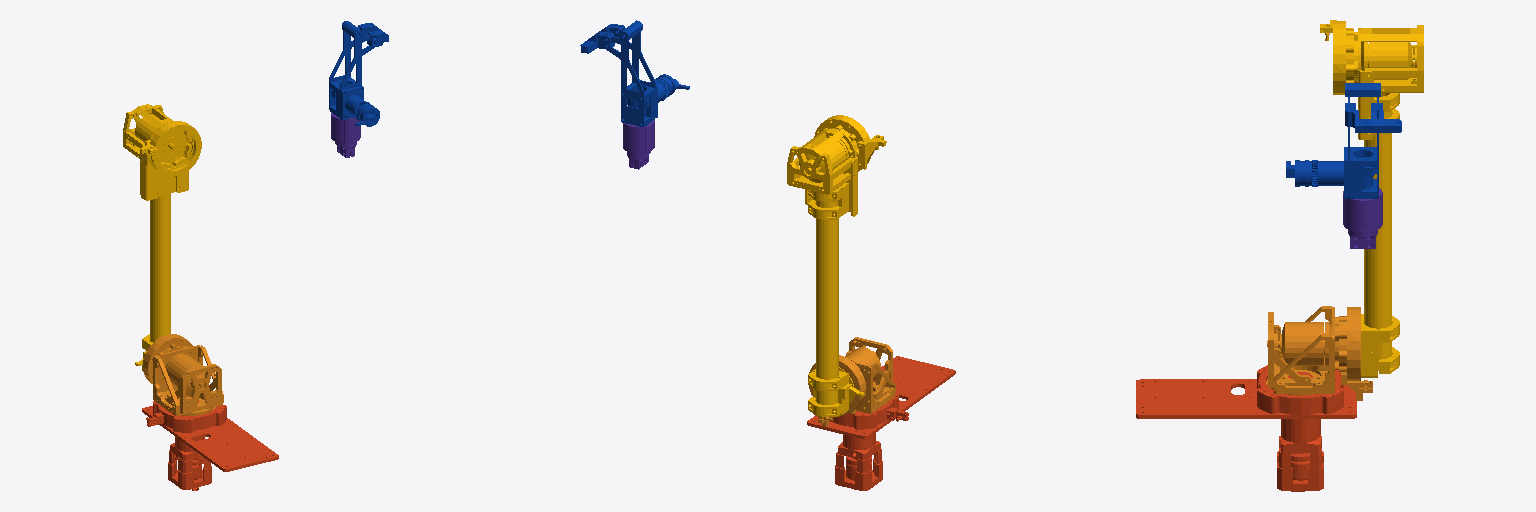
robot.urdf — kanga_arm:
<?xml version="1.0" ?>
<!-- =================================================================================== -->
<!-- |    This document was autogenerated by xacro from /tmp/kanga_arm_only.urdf.xacro | -->
<!-- |    EDITING THIS FILE BY HAND IS NOT RECOMMENDED                                 | -->
<!-- =================================================================================== -->
<robot name="kanga_arm">
  <link name="world"/>
  <joint name="world_to_baserotation" type="fixed">
    <origin rpy="0 0 0" xyz="0 0 2.0"/>
    <parent link="world"/>
    <child link="baserotation"/>
  </joint>
  <link name="baserotation">
    <inertial>
      <origin rpy="0 0 0" xyz="-0.0606852 0.208293 -0.0276408"/>
      <mass value="2"/>
      <inertia ixx="0.0135135" ixy="6.73183e-05" ixz="6.89543e-05" iyy="0.00589845" iyz="0.00163027" izz="0.0109675"/>
    </inertial>
    <visual>
      <origin rpy="0 0 1.5708" xyz="-0.059466 0.154694 0"/>
      <geometry>
        <mesh filename="../meshes/payloads/arm/baserotation.obj"/>
      </geometry>
      <material name="baserotation_material">
        <color rgba="0.866667 0.321569 0.156863 1"/>
      </material>
    </visual>
    <collision>
      <origin rpy="0 0 1.5708" xyz="-0.059466 0.154694 0"/>
      <geometry>
        <mesh filename="../meshes/payloads/arm/baserotation.obj"/>
      </geometry>
    </collision>
  </link>
  <link name="arm_dh_j1">
    <inertial>
      <origin rpy="0 0 0" xyz="0 0 0"/>
      <mass value="1e-9"/>
      <inertia ixx="0" ixy="0" ixz="0" iyy="0" iyz="0" izz="0"/>
    </inertial>
  </link>
  <joint name="arm_dh_j1_frame" type="fixed">
    <origin rpy="0 0 0" xyz="-0.06 0.235 0.006"/>
    <parent link="baserotation"/>
    <child link="arm_dh_j1"/>
    <axis xyz="0 0 0"/>
  </joint>
  <link name="link1">
    <inertial>
      <origin rpy="0 0 0" xyz="0.0153434 0.000216753 -0.0502363"/>
      <mass value="2.5"/>
      <inertia ixx="0.00487168" ixy="-3.8755e-05" ixz="0.0007241" iyy="0.00640313" iyz="-1.88755e-05" izz="0.00488291"/>
    </inertial>
    <visual>
      <origin rpy="3.14159 0 0" xyz="-0.0803056 0.000534043 0.011"/>
      <geometry>
        <mesh filename="../meshes/payloads/arm/link1.obj"/>
      </geometry>
      <material name="link1_material">
        <color rgba="0.909804 0.572549 0.164706 1"/>
      </material>
    </visual>
    <collision>
      <origin rpy="3.14159 0 0" xyz="-0.0803056 0.000534043 0.011"/>
      <geometry>
        <mesh filename="../meshes/payloads/arm/link1.obj"/>
      </geometry>
    </collision>
  </link>
  <link name="arm_dh_j2">
    <inertial>
      <origin rpy="0 0 0" xyz="0 0 0"/>
      <mass value="1e-9"/>
      <inertia ixx="0" ixy="0" ixz="0" iyy="0" iyz="0" izz="0"/>
    </inertial>
  </link>
  <joint name="arm_dh_j2_frame" type="fixed">
    <origin rpy="1.5708 -1.05e-10 1.5708" xyz="0 0 -0.079"/>
    <parent link="link1"/>
    <child link="arm_dh_j2"/>
    <axis xyz="0 0 0"/>
  </joint>
  <link name="link2">
    <inertial>
      <origin rpy="0 0 0" xyz="0.334577 -0.00106845 0.0227252"/>
      <mass value="1"/>
      <inertia ixx="0.00146164" ixy="3.85103e-05" ixz="-0.000441543" iyy="0.0319052" iyz="-4.59646e-05" izz="0.0315154"/>
    </inertial>
    <visual>
      <origin rpy="-1.5708 -1.57079 -0.31279" xyz="-0.0281718 -0.0854675 -0.165806"/>
      <geometry>
        <mesh filename="../meshes/payloads/arm/link2.obj"/>
      </geometry>
      <material name="link2_material">
        <color rgba="1 0.756863 0.054902 1"/>
      </material>
    </visual>
    <collision>
      <origin rpy="-1.5708 -1.57079 -0.31279" xyz="-0.0281718 -0.0854675 -0.165806"/>
      <geometry>
        <mesh filename="../meshes/payloads/arm/link2.obj"/>
      </geometry>
    </collision>
  </link>
  <link name="arm_dh_j3">
    <inertial>
      <origin rpy="0 0 0" xyz="0 0 0"/>
      <mass value="1e-9"/>
      <inertia ixx="0" ixy="0" ixz="0" iyy="0" iyz="0" izz="0"/>
    </inertial>
  </link>
  <joint name="arm_dh_j3_frame" type="fixed">
    <origin rpy="0 0 -3.14159" xyz="0.449997 1.12725e-06 0.0255"/>
    <parent link="link2"/>
    <child link="arm_dh_j3"/>
    <axis xyz="0 0 0"/>
  </joint>
  <link name="link3">
    <inertial>
      <origin rpy="0 0 0" xyz="0.0108991 -0.249104 0.0193538"/>
      <mass value="1"/>
      <inertia ixx="0.0256984" ixy="0.00124988" ixz="-1.85772e-05" iyy="0.00107522" iyz="0.000150845" izz="0.0261028"/>
    </inertial>
    <visual>
      <origin rpy="1.5708 1.57079 1.34506" xyz="-0.318581 -0.366655 0.126306"/>
      <geometry>
        <mesh filename="../meshes/payloads/arm/link3.obj"/>
      </geometry>
      <material name="link3_material">
        <color rgba="0.372549 0.654902 0.239216 1"/>
      </material>
    </visual>
    <collision>
      <origin rpy="1.5708 1.57079 1.34506" xyz="-0.318581 -0.366655 0.126306"/>
      <geometry>
        <mesh filename="../meshes/payloads/arm/link3.obj"/>
      </geometry>
    </collision>
  </link>
  <link name="link4">
    <inertial>
      <origin rpy="0 0 0" xyz="5.02554e-05 0.000705645 0.0166778"/>
      <mass value="0.3"/>
      <inertia ixx="0.000168691" ixy="-3.29003e-07" ixz="5.79948e-07" iyy="0.000164786" iyz="8.07385e-06" izz="5.72926e-05"/>
    </inertial>
    <visual>
      <origin rpy="-1.5708 -1.57079 3.03657" xyz="0.0813846 0.308891 -0.0863056"/>
      <geometry>
        <mesh filename="../meshes/payloads/arm/link4.obj"/>
      </geometry>
      <material name="link4_material">
        <color rgba="0.0862745 0.317647 0.690196 1"/>
      </material>
    </visual>
    <collision>
      <origin rpy="-1.5708 -1.57079 3.03657" xyz="0.0813846 0.308891 -0.0863056"/>
      <geometry>
        <mesh filename="../meshes/payloads/arm/link4.obj"/>
      </geometry>
    </collision>
  </link>
  <link name="arm_dh_j4">
    <inertial>
      <origin rpy="0 0 0" xyz="0 0 0"/>
      <mass value="1e-9"/>
      <inertia ixx="0" ixy="0" ixz="0" iyy="0" iyz="0" izz="0"/>
    </inertial>
  </link>
  <joint name="arm_dh_j4_frame" type="fixed">
    <origin rpy="0 0 1.55304" xyz="0 0 0.0145"/>
    <parent link="link4"/>
    <child link="arm_dh_j4"/>
    <axis xyz="0 0 0"/>
  </joint>
  <link name="end_effector_mount">
    <inertial>
      <origin rpy="0 0 0" xyz="0 0 0"/>
      <mass value="1e-9"/>
      <inertia ixx="0" ixy="0" ixz="0" iyy="0" iyz="0" izz="0"/>
    </inertial>
  </link>
  <joint name="end_effector_mount_frame" type="fixed">
    <origin rpy="0 0 1.5708" xyz="0 0 0.054"/>
    <parent link="link4"/>
    <child link="end_effector_mount"/>
    <axis xyz="0 0 0"/>
  </joint>
  <joint name="arm_j4" type="revolute">
    <origin rpy="-3.14159 0 -3.14159" xyz="-2.68886e-06 -0.389999 0.04"/>
    <parent link="link3"/>
    <child link="link4"/>
    <axis xyz="0 0 1"/>
    <limit effort="10" lower="-31.4159" upper="31.4159" velocity="10"/>
  </joint>
  <joint name="arm_j3" type="revolute">
    <origin rpy="3.14159 0 0" xyz="0.449997 1.12725e-06 -0.0395"/>
    <parent link="link2"/>
    <child link="link3"/>
    <axis xyz="0 0 1"/>
    <limit effort="10" lower="-31.4159" upper="31.4159" velocity="10"/>
  </joint>
  <joint name="arm_j2" type="revolute">
    <origin rpy="-6.08527e-06 1.5708 0" xyz="0.0855 5.2029e-07 -0.079"/>
    <parent link="link1"/>
    <child link="link2"/>
    <axis xyz="0 0 1"/>
    <limit effort="10" lower="-31.4159" upper="31.4159" velocity="10"/>
  </joint>
  <joint name="arm_j1" type="revolute">
    <origin rpy="3.14159 0 1.5708" xyz="-0.06 0.235 0.011"/>
    <parent link="baserotation"/>
    <child link="link1"/>
    <axis xyz="0 0 1"/>
    <limit effort="10" lower="-31.4159" upper="31.4159" velocity="10"/>
  </joint>
  <joint name="arm_gripper_payload_mount_joint" type="fixed">
    <origin rpy="0 0 0" xyz="0 0 0"/>
    <parent link="end_effector_mount"/>
    <child link="l4"/>
    <axis xyz="0 0 0"/>
  </joint>
  <link name="l4">
    <inertial>
      <origin rpy="0 0 0" xyz="-0.0142313 0.0287561 0.0284316"/>
      <mass value="0.8"/>
      <inertia ixx="0.00330355" ixy="0.000978114" ixz="0.000116635" iyy="0.000846989" iyz="-0.000183013" izz="0.00370143"/>
    </inertial>
    <visual>
      <origin rpy="4.81e-08 -1.5708 0" xyz="-0.0334738 -0.125328 0.0674204"/>
      <geometry>
        <mesh filename="../meshes/payloads/arm_gripper_payload/l4.obj"/>
      </geometry>
      <material name="l4_material">
        <color rgba="0.0862745 0.317647 0.690196 1"/>
      </material>
    </visual>
    <collision>
      <origin rpy="4.81e-08 -1.5708 0" xyz="-0.0334738 -0.125328 0.0674204"/>
      <geometry>
        <mesh filename="../meshes/payloads/arm_gripper_payload/l4.obj"/>
      </geometry>
    </collision>
  </link>
  <link name="l5">
    <inertial>
      <origin rpy="0 0 0" xyz="1.12104e-06 -0.00636427 -0.0838165"/>
      <mass value="0.5"/>
      <inertia ixx="0.0010927" ixy="6.88678e-07" ixz="6.65337e-07" iyy="0.0013298" iyz="-4.93335e-05" izz="0.000475952"/>
    </inertial>
    <visual>
      <origin rpy="1.5708 0 0" xyz="0.0384804 -0.0334738 -0.0953276"/>
      <geometry>
        <mesh filename="../meshes/payloads/arm_gripper_payload/l5.obj"/>
      </geometry>
      <material name="l5_material">
        <color rgba="0.368627 0.25098 0.643137 1"/>
      </material>
    </visual>
    <collision>
      <origin rpy="1.5708 0 0" xyz="0.0384804 -0.0334738 -0.0953276"/>
      <geometry>
        <mesh filename="../meshes/payloads/arm_gripper_payload/l5.obj"/>
      </geometry>
    </collision>
    <visual>
      <origin rpy="-1.5708 0 2.608e-09" xyz="0.0030445 -0.0021803 -0.22035"/>
      <geometry>
        <mesh filename="../meshes/payloads/arm_gripper_payload/fre_gripper__fixed.obj"/>
      </geometry>
      <material name="fre_gripper__fixed_material">
        <color rgba="0.596078 0.121569 0.67451 1"/>
      </material>
    </visual>
    <collision>
      <origin rpy="-1.5708 0 2.608e-09" xyz="0.0030445 -0.0021803 -0.22035"/>
      <geometry>
        <mesh filename="../meshes/payloads/arm_gripper_payload/fre_gripper__fixed.obj"/>
      </geometry>
    </collision>
  </link>
  <link name="arm_dh_j5">
    <inertial>
      <origin rpy="0 0 0" xyz="0 0 0"/>
      <mass value="1e-9"/>
      <inertia ixx="0" ixy="0" ixz="0" iyy="0" iyz="0" izz="0"/>
    </inertial>
  </link>
  <joint name="arm_dh_j5_frame" type="fixed">
    <origin rpy="-3.14159 0 0" xyz="0 0 0.03"/>
    <parent link="l5"/>
    <child link="arm_dh_j5"/>
    <axis xyz="0 0 0"/>
  </joint>
  <link name="gripper_endpoint">
    <inertial>
      <origin rpy="0 0 0" xyz="0 0 0"/>
      <mass value="1e-9"/>
      <inertia ixx="0" ixy="0" ixz="0" iyy="0" iyz="0" izz="0"/>
    </inertial>
  </link>
  <joint name="gripper_endpoint_frame" type="fixed">
    <origin rpy="-3.14159 0 2.608e-09" xyz="0 -0.0001 -0.211725"/>
    <parent link="l5"/>
    <child link="gripper_endpoint"/>
    <axis xyz="0 0 0"/>
  </joint>
  <joint name="arm_j5" type="revolute">
    <origin rpy="-1.5708 1.5708 0" xyz="1.443e-09 -0.03 0.02894"/>
    <parent link="l4"/>
    <child link="l5"/>
    <axis xyz="0 0 1"/>
    <limit effort="10" lower="-31.4159" upper="31.4159" velocity="10"/>
  </joint>
</robot>

--- What the picture shows (computed from the rendered views, not written in the file) ---
3 views of the same robot in one strip: view 1: azimuth 30°, elevation 25°; view 2: azimuth 150°, elevation 25°; view 3: azimuth 270°, elevation 25° (orthographic).
Robot: kanga_arm — 15 links, 14 joints (5 revolute, 9 fixed); root link world; default pose: every joint at zero.
Visible links, largest first — view 1: link2, baserotation, link1, l4, l5, link4; view 2: link2, baserotation, l4, link1, l5; view 3: link2, baserotation, link1, l4, l5, link4.
Boxes of the visible links, x1=… form: link2: x1=123, y1=104, x2=201, y2=370; baserotation: x1=142, y1=400, x2=278, y2=490; link1: x1=143, y1=334, x2=223, y2=415; l4: x1=329, y1=21, x2=388, y2=119; l5: x1=331, y1=112, x2=360, y2=157; link4: x1=346, y1=96, x2=379, y2=126; link2: x1=787, y1=115, x2=886, y2=416; baserotation: x1=807, y1=356, x2=955, y2=490; l4: x1=580, y1=20, x2=657, y2=126; link1: x1=809, y1=337, x2=895, y2=426; l5: x1=623, y1=120, x2=654, y2=169; link2: x1=1320, y1=20, x2=1423, y2=377; baserotation: x1=1136, y1=365, x2=1356, y2=491; link1: x1=1266, y1=306, x2=1372, y2=400; l4: x1=1343, y1=83, x2=1401, y2=198; l5: x1=1343, y1=188, x2=1382, y2=248; link4: x1=1286, y1=160, x2=1342, y2=186.
Bounding box of the posed robot: 0.571 × 0.4115 × 0.8241 m (x, y, z).
Meshes: 8 distinct files referenced, 6 mesh visuals loaded (6 OBJ); not drawn: 2 (reference not matched to a file when rendering).
